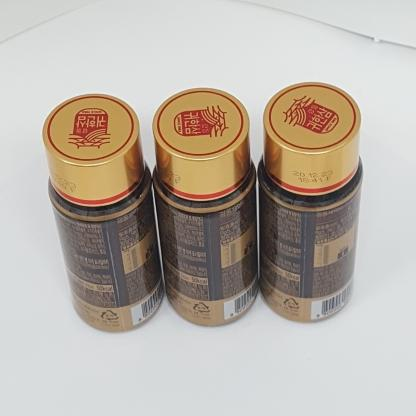-------100ml: (43, 93, 164, 333), (256, 81, 363, 323), (152, 87, 259, 328)
